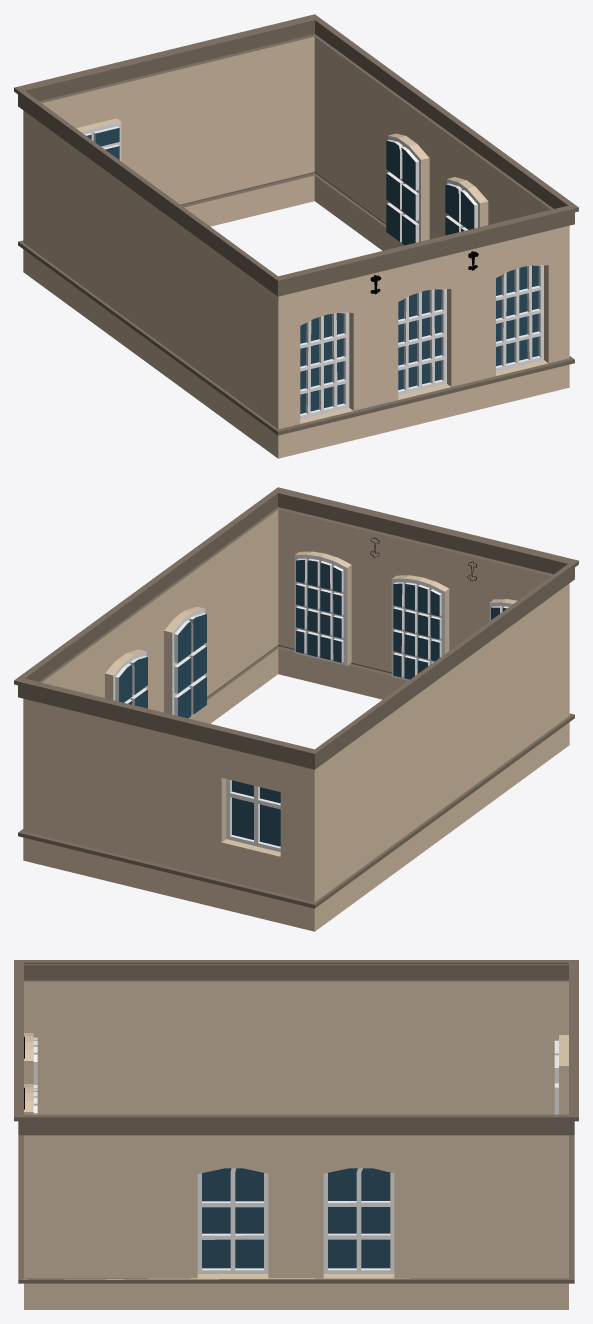
The model's file is Apt8_Floor.fbx.
3 views of the same model, one above another, from view 1: azimuth 30°, elevation 25°; view 2: azimuth 150°, elevation 25°; view 3: azimuth 270°, elevation 25° (orthographic). The views are drawn at different scales.
Parts seen in each view (by area): view 1: Apt8_Floor_Main, Apt8_Floor_Border, Apt8_Floor_Windows, Apt8_Floor_Frame; view 2: Apt8_Floor_Main, Apt8_Floor_Border, Apt8_Floor_Windows, Apt8_Floor_Frame; view 3: Apt8_Floor_Main, Apt8_Floor_Border, Apt8_Floor_Windows, Apt8_Floor_Frame.
Boxes of the visible parts, x1,y1,x2,y2 form: Apt8_Floor_Main: (23, 36, 569, 458); Apt8_Floor_Border: (14, 14, 578, 435); Apt8_Floor_Windows: (87, 128, 538, 413); Apt8_Floor_Frame: (81, 122, 543, 419); Apt8_Floor_Main: (23, 509, 569, 931); Apt8_Floor_Border: (14, 487, 578, 908); Apt8_Floor_Windows: (119, 560, 506, 846); Apt8_Floor_Frame: (113, 554, 512, 851); Apt8_Floor_Main: (22, 981, 568, 1309); Apt8_Floor_Border: (14, 960, 578, 1283); Apt8_Floor_Windows: (202, 1168, 390, 1268); Apt8_Floor_Frame: (33, 1037, 558, 1273).
Size of the model in its own units: 608 by 352 by 924.
